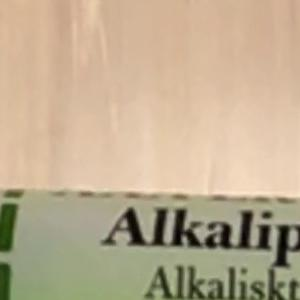keyword: (71, 185, 194, 206)
